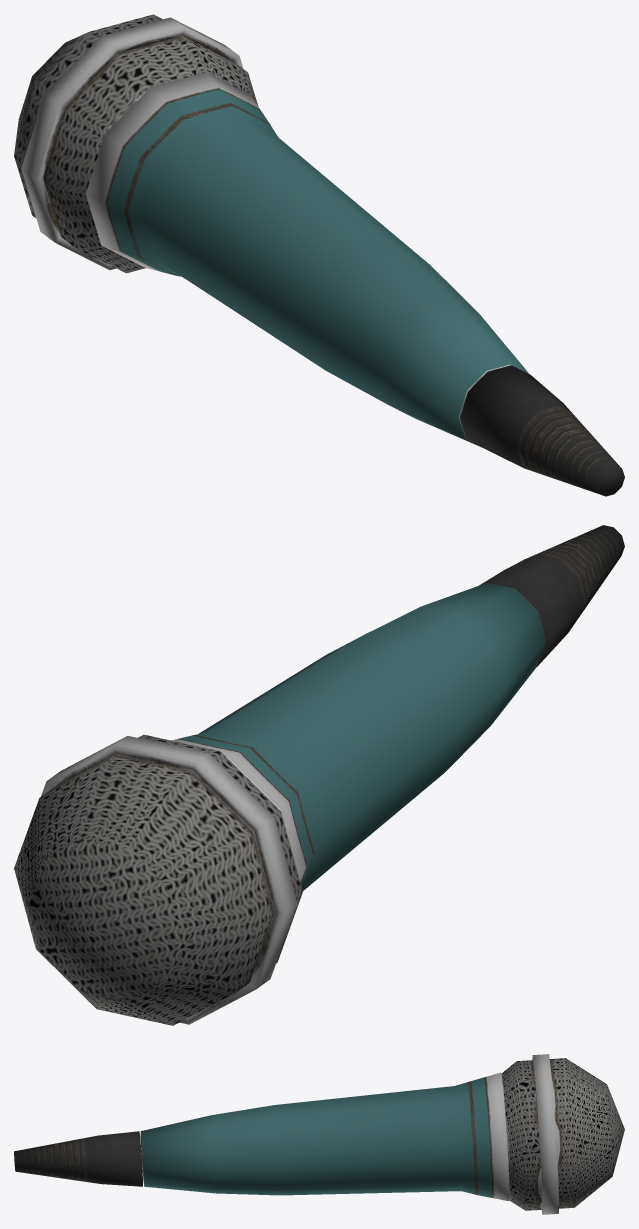
The model's file is Microphone.glb.
The picture shows the model from 3 angles, top to bottom: view 1: azimuth 30°, elevation 25°; view 2: azimuth 150°, elevation 25°; view 3: azimuth 270°, elevation 25°; orthographic projection. The views are drawn at different scales.
Parts seen in each view (by area): view 1: Microphone_low.001_Microphone_0.019; view 2: Microphone_low.001_Microphone_0.019; view 3: Microphone_low.001_Microphone_0.019.
Boxes of the visible parts, x1,y1,x2,y2 form: Microphone_low.001_Microphone_0.019: (14,14,624,496); Microphone_low.001_Microphone_0.019: (14,525,624,1025); Microphone_low.001_Microphone_0.019: (14,1054,624,1214).
Size of the model in its own units: 0.0584 by 0.0555 by 0.22.
1 material, 1 textured.
